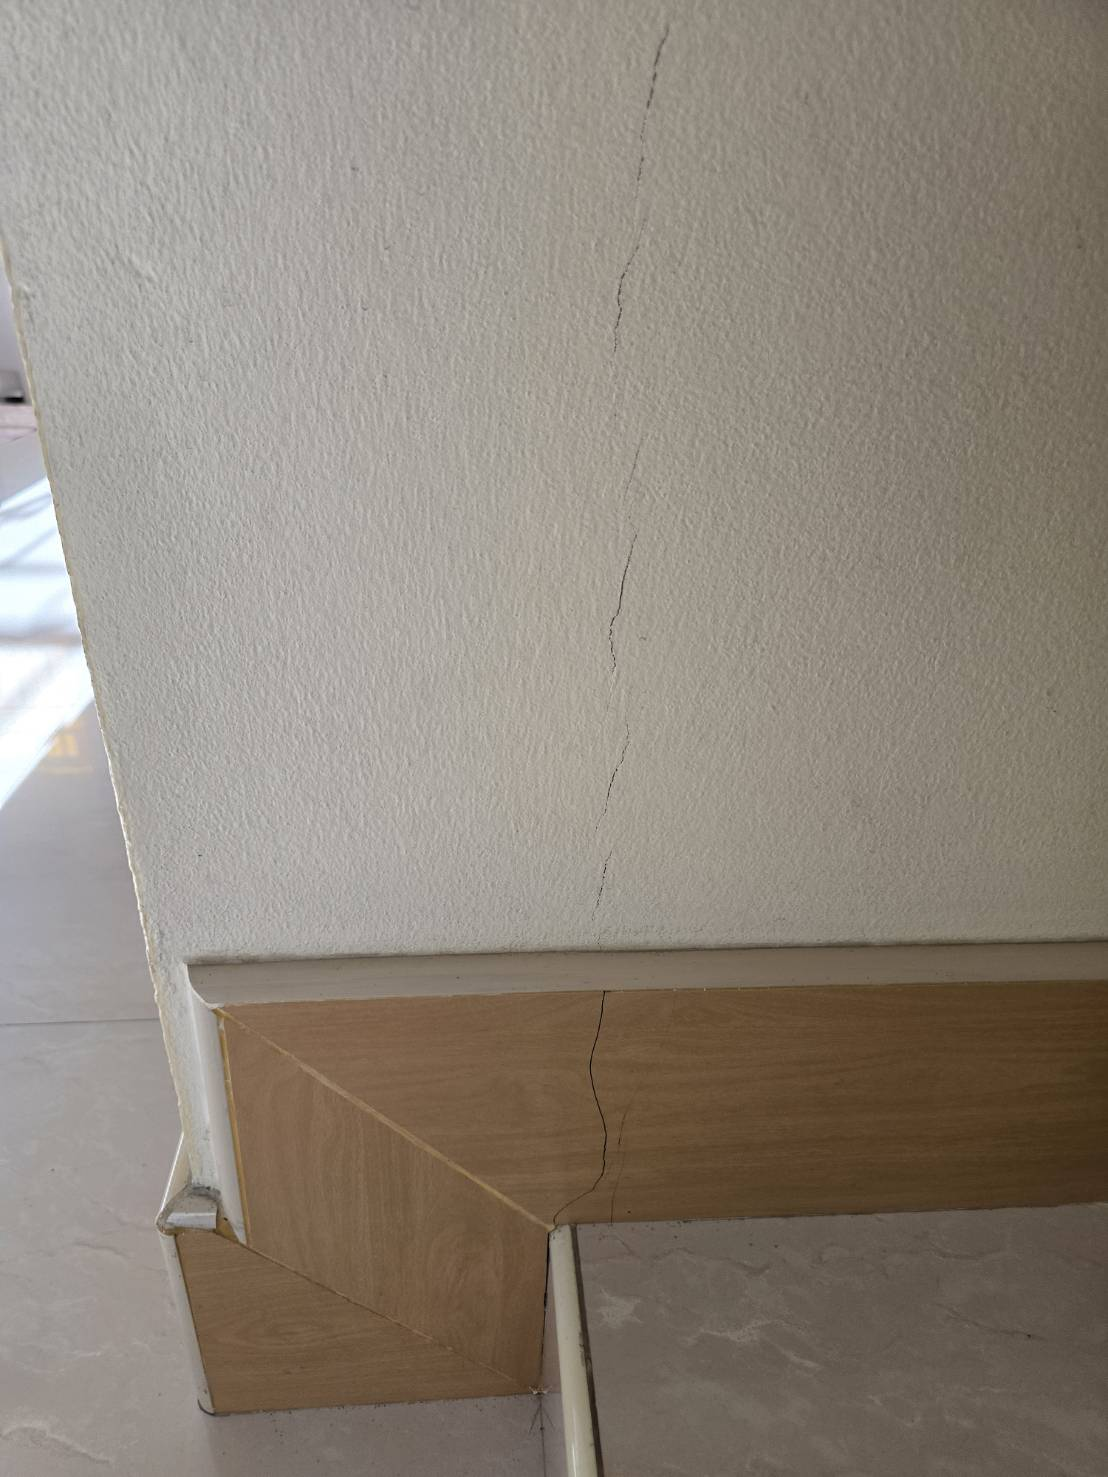Low: (540, 19, 716, 1233)
